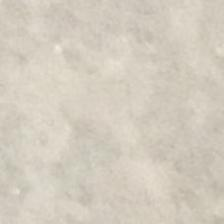Non_Crack: (22, 29, 201, 195)
